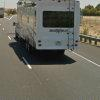Bus: (12, 1, 82, 54)
